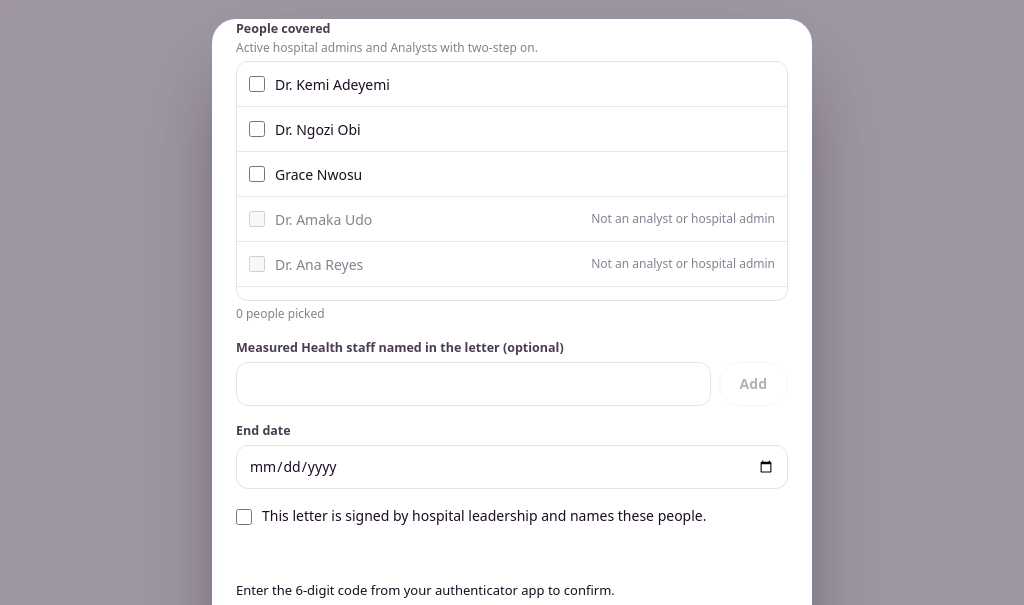
Scenario: UploadDialog › a bad email is announced and marks the box
The width and height of the screenshot is (1024, 605).
(page scrolled)
Expected: the checkbox labelled "Dr. Ngozi Obi" is shown, [249,121,265,137]
Type "not-an-email" into the field labelled "Measured Health staff named in the letter (optional)" at (473, 384), box [236,362,711,406]
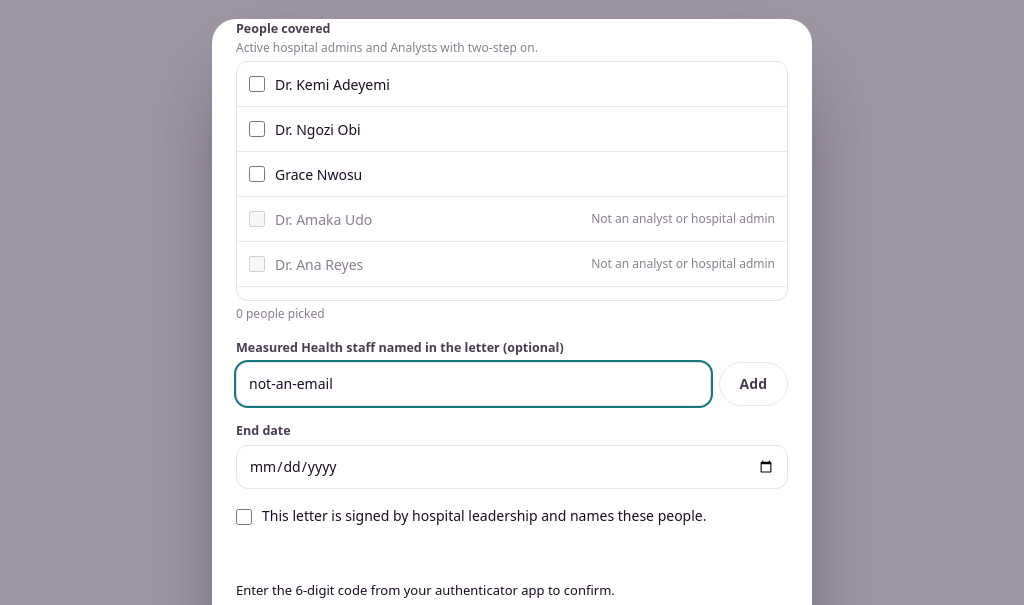
Click the button "Add" at (753, 384), box [719,362,788,406]
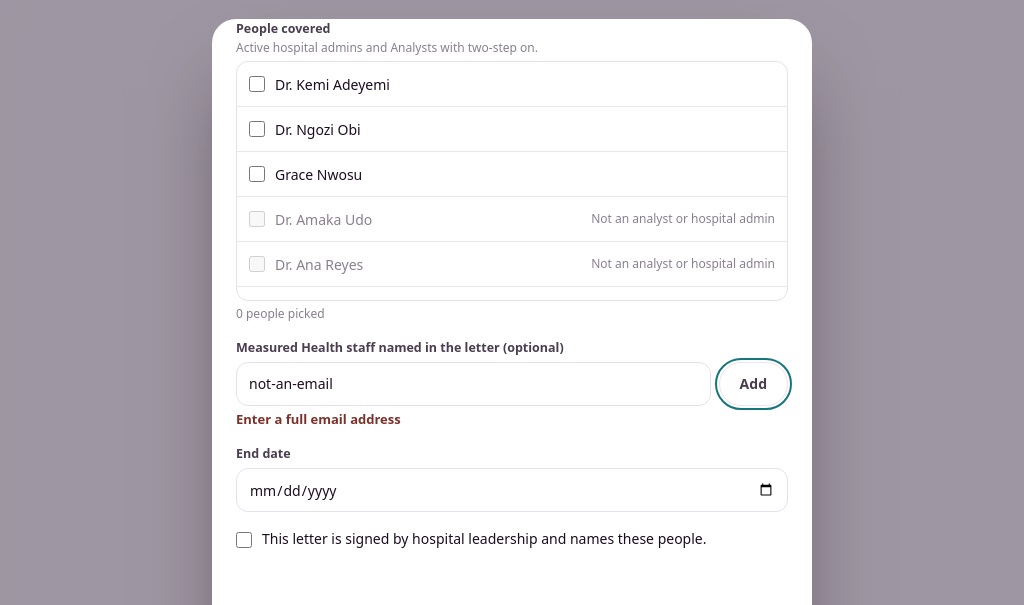
Expected: the message reads "Enter a full email address", [236,410,401,428]
